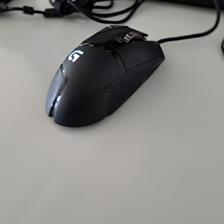mouse: (42, 24, 165, 129)
